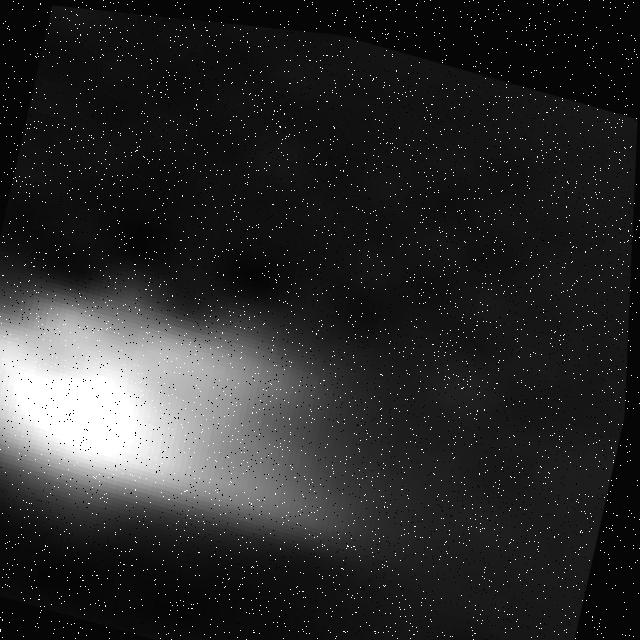person: (1, 243, 429, 582)
